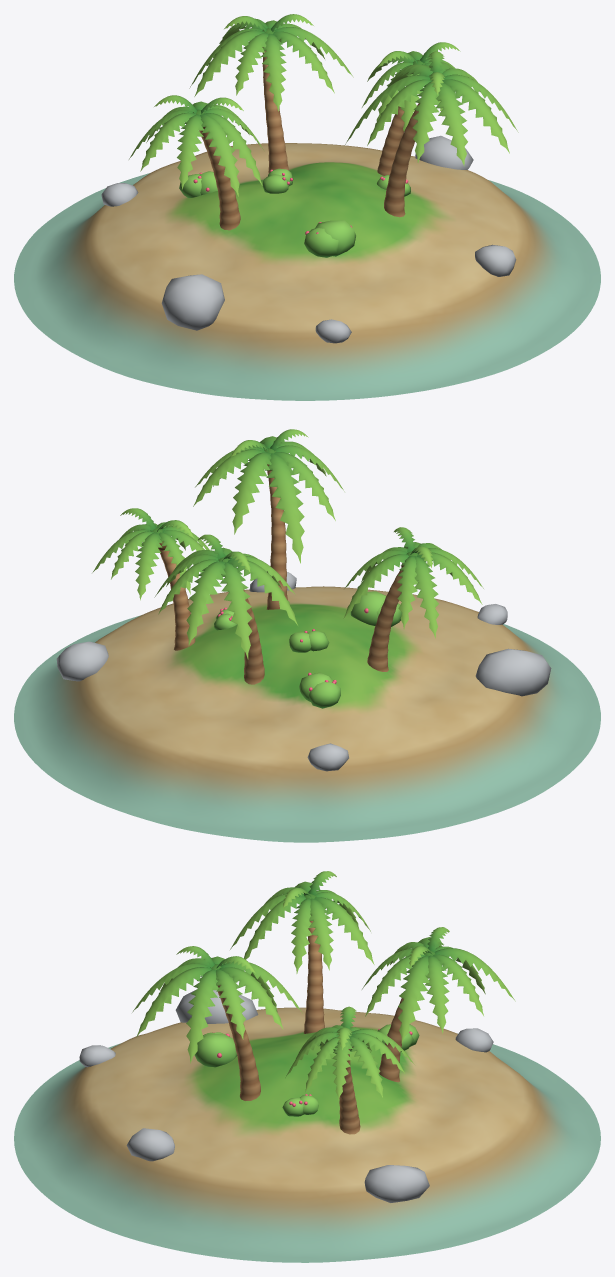
The model's file is island_tropic.glb.
3 views of the same model, one above another, from view 1: azimuth 30°, elevation 25°; view 2: azimuth 150°, elevation 25°; view 3: azimuth 270°, elevation 25° (orthographic).
Parts seen in each view (by area): view 1: island_tropic; view 2: island_tropic; view 3: island_tropic.
Boxes of the visible parts, left/top/right/bottom form: island_tropic: left=14, top=14, right=600, bottom=400; island_tropic: left=14, top=429, right=600, bottom=842; island_tropic: left=14, top=871, right=600, bottom=1262.
Size of the model in its own units: 16.61 by 7.16 by 16.61.
